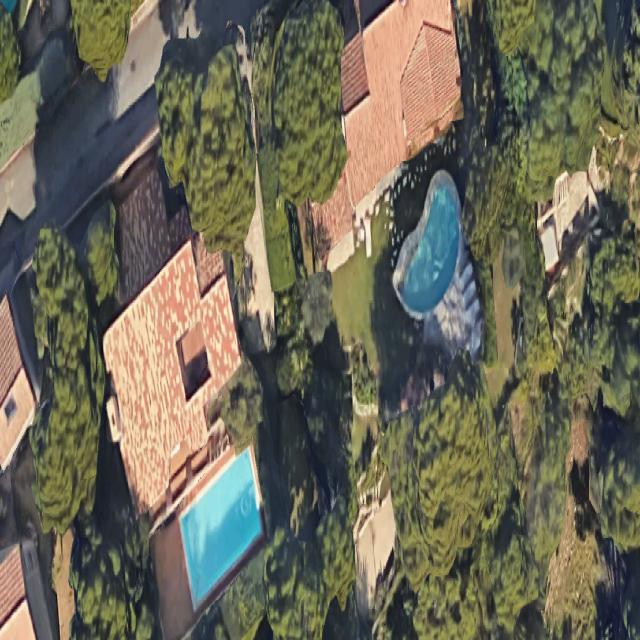maison: (67, 159, 263, 515), (285, 0, 491, 279), (0, 296, 35, 469), (0, 542, 53, 639)
